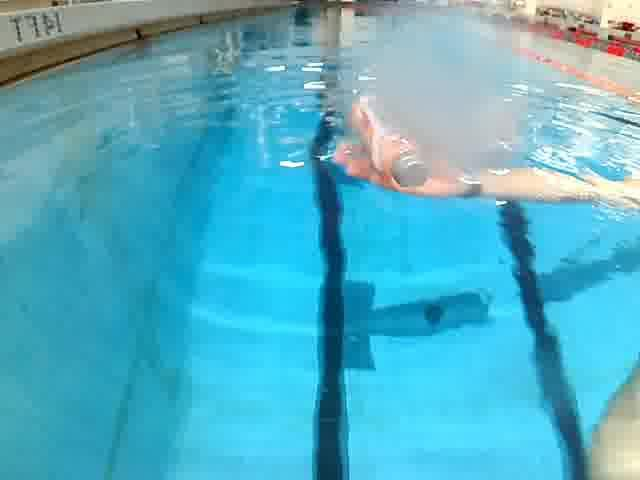Bottle: (341, 86, 432, 190)
